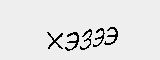З: (80, 27, 93, 54)
Х: (45, 30, 64, 53)
Э: (102, 24, 121, 49), (90, 24, 105, 51), (63, 31, 80, 54)
